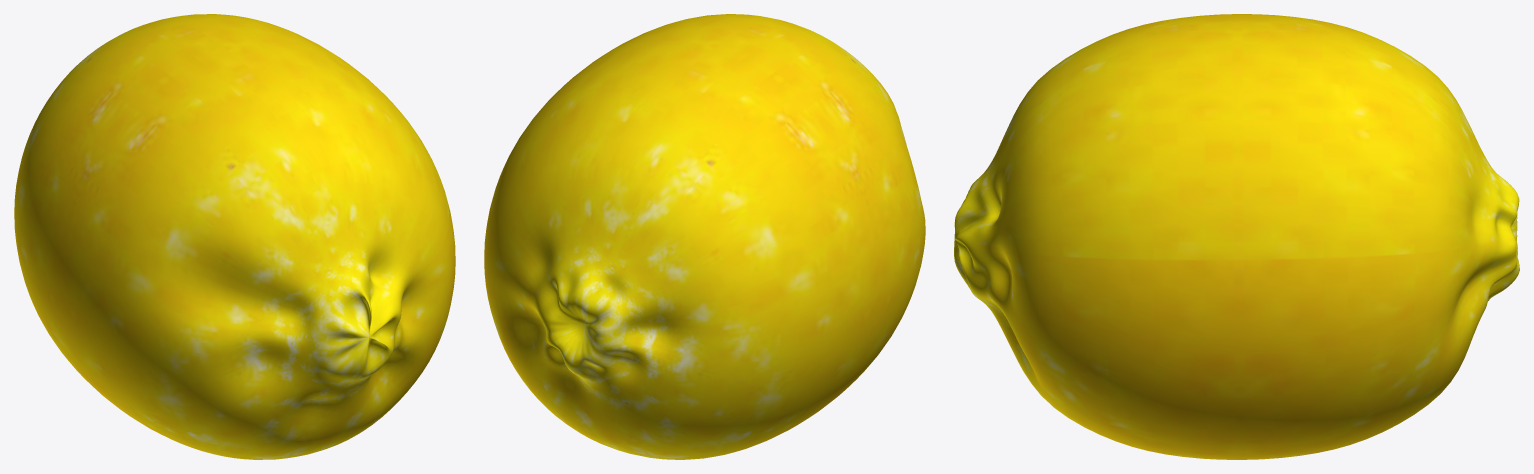
Rendered from Lemon.fbx.
The picture shows the model from 3 angles, left to right: view 1: azimuth 30°, elevation 25°; view 2: azimuth 150°, elevation 25°; view 3: azimuth 270°, elevation 25°; orthographic projection. The views are drawn at different scales.
Parts seen in each view (by area): view 1: Lemon1; view 2: Lemon1; view 3: Lemon1.
Part boxes in pixels (x1,y1,x2,y2): Lemon1: (14, 14, 455, 459); Lemon1: (484, 14, 925, 459); Lemon1: (954, 14, 1519, 459).
Bounding box in the file's own units: 0.7973 × 0.8397 × 1.06.
1 material, 1 textured.
